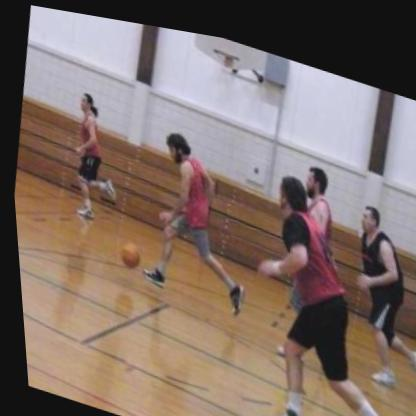basketball: (111, 230, 146, 272)
